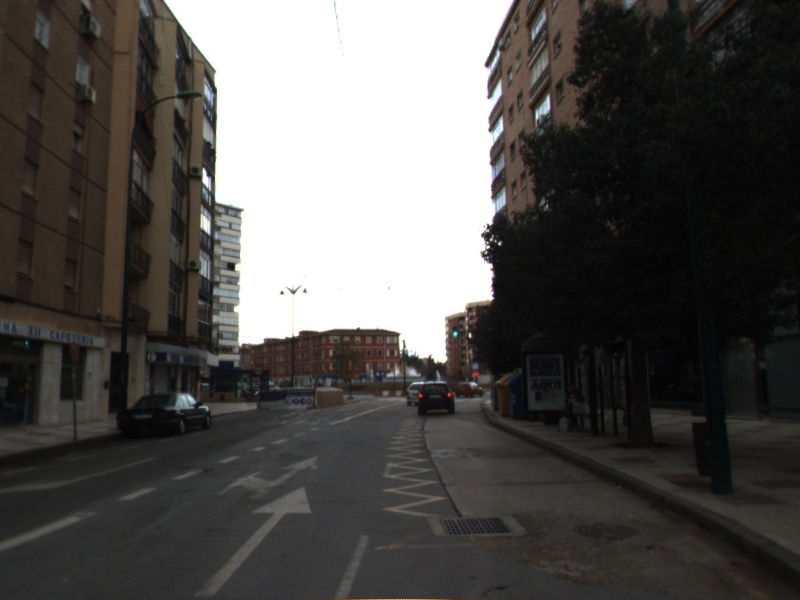STRAIGHT: (191, 484, 315, 598)
STRAIGHT_LEFT: (214, 454, 319, 501)
